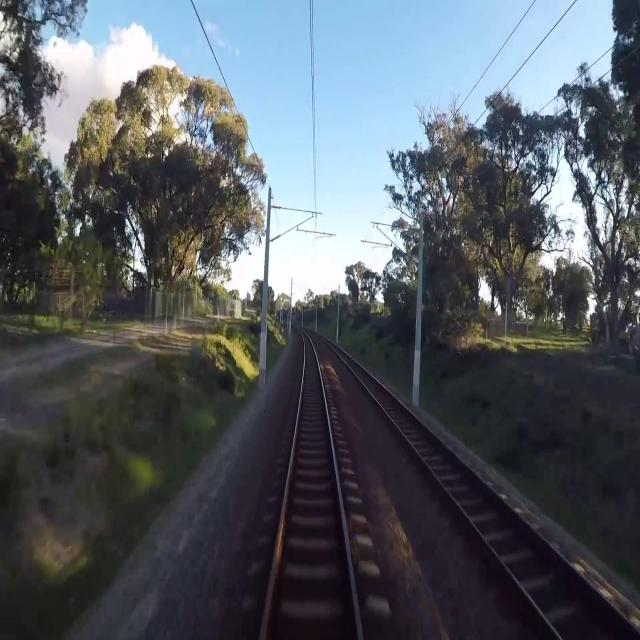rail-track: (335, 347, 640, 639), (264, 334, 356, 639)
